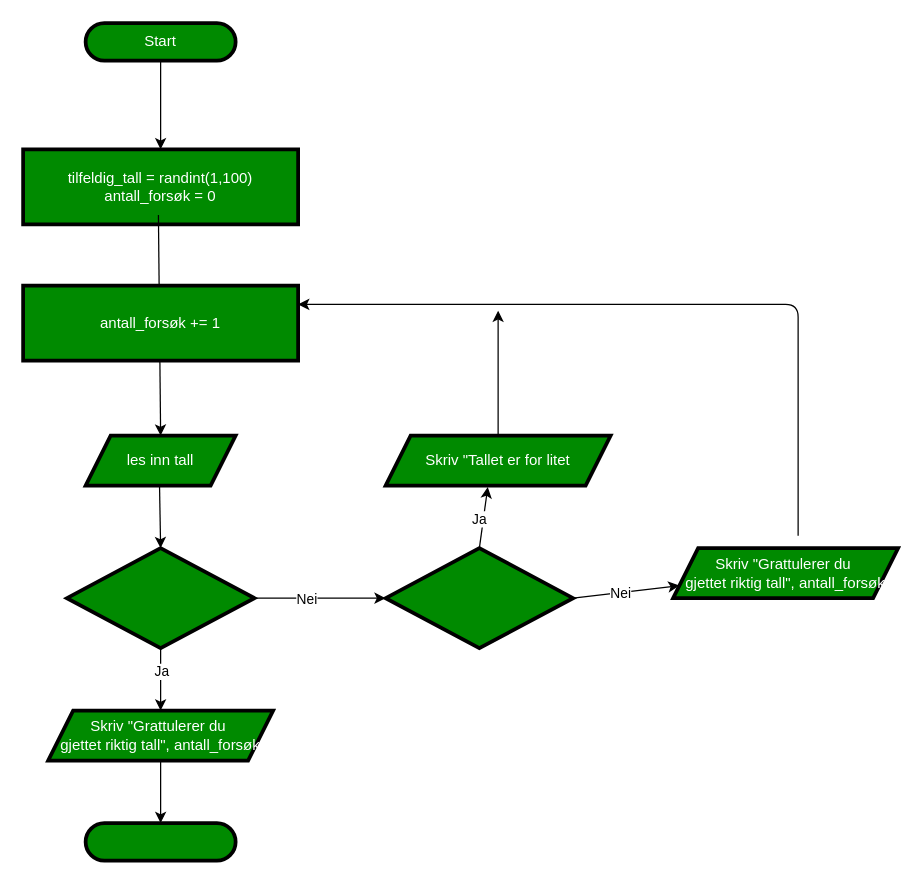
This 921x884 diagram has some shape labels left out. Here are the shapes that lost their labels. From the top down, the centre of each, then its label:
(x=160, y=597): tall == tilfeldig_tall
(x=478, y=597): tall < tilfeldig_tall
(x=160, y=841): Stopp
